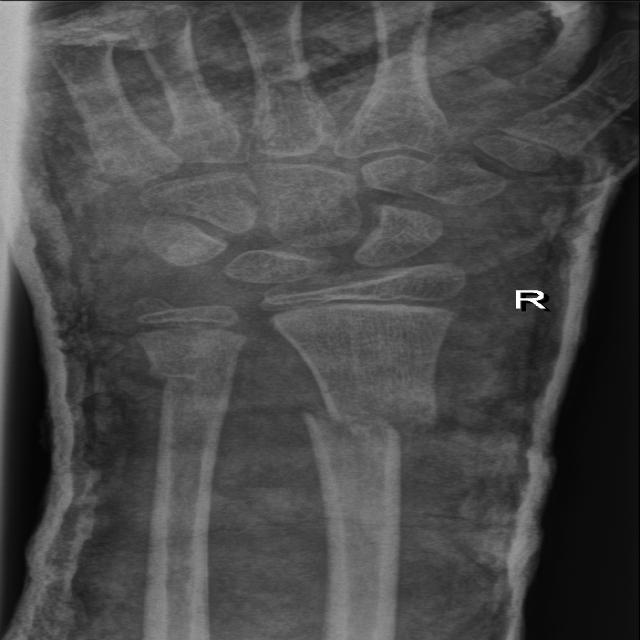radius fracture: (271, 358, 498, 500)
ulna fracture: (101, 344, 250, 447)
